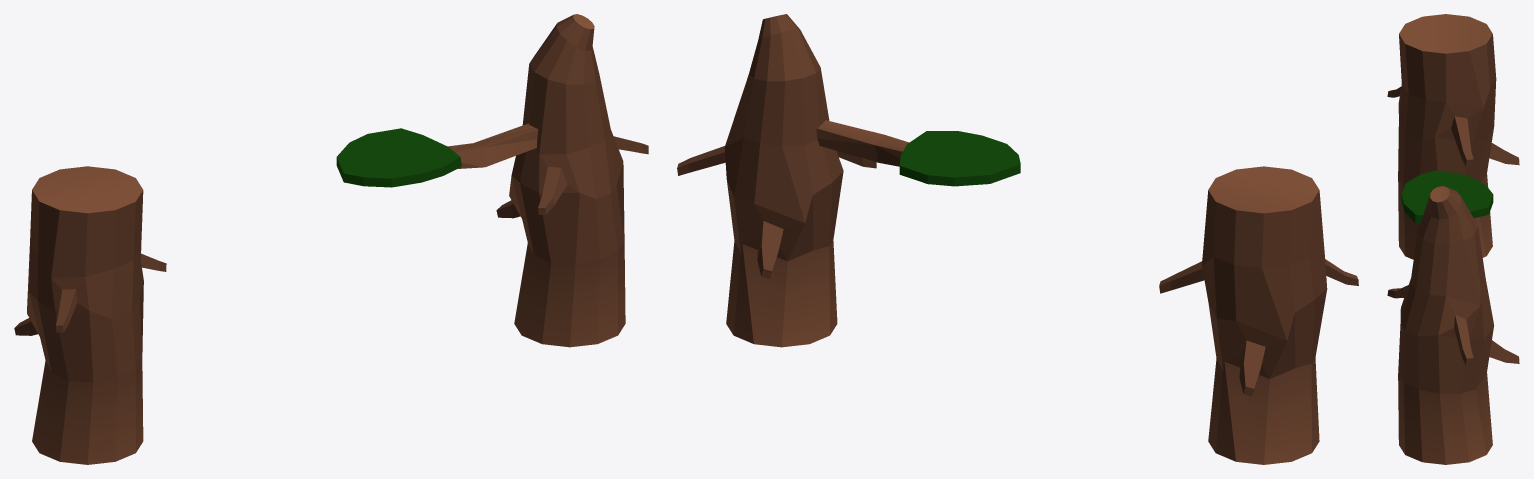
File: tronc_platform.glb
3 views of the same model, side by side, from view 1: azimuth 30°, elevation 25°; view 2: azimuth 150°, elevation 25°; view 3: azimuth 270°, elevation 25° (orthographic). The views are drawn at different scales.
Visible parts, largest first — view 1: tronc2, tronc, branche; view 2: tronc2, tronc, branche; view 3: tronc, tronc2, branche.
Boxes of the visible parts, x1,y1,x2,y2 form: tronc2: (14,166,166,464); tronc: (496,14,648,347); branche: (336,123,538,187); tronc2: (1159,166,1358,464); tronc: (677,14,876,347); branche: (816,120,1020,186); tronc: (1387,186,1519,464); tronc2: (1387,14,1519,259); branche: (1401,170,1493,223).
Size of the model in its own units: 13.2 by 6.09 by 2.81.
Materials: 1 (1 with a texture image).
